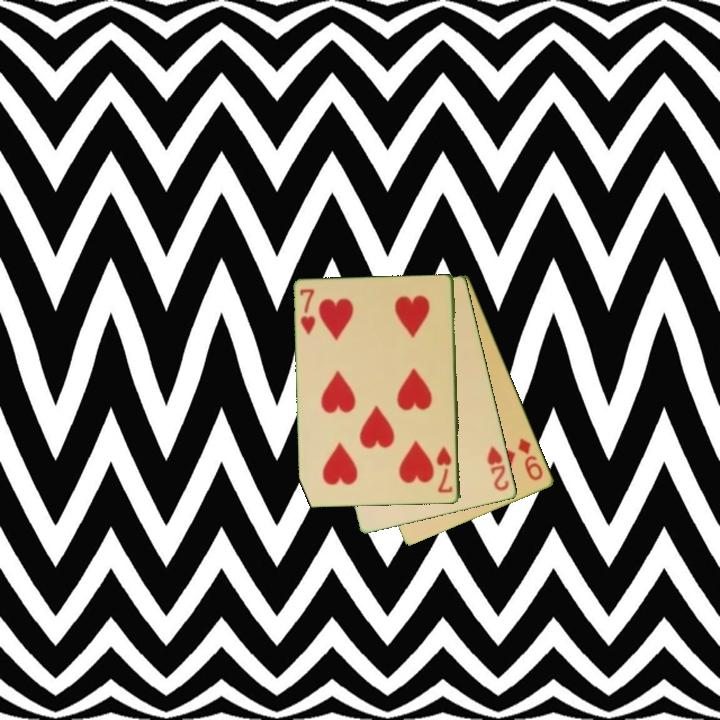2h: (484, 442, 512, 494)
7h: (433, 443, 456, 496), (297, 285, 318, 338)
9d: (515, 434, 546, 484)
